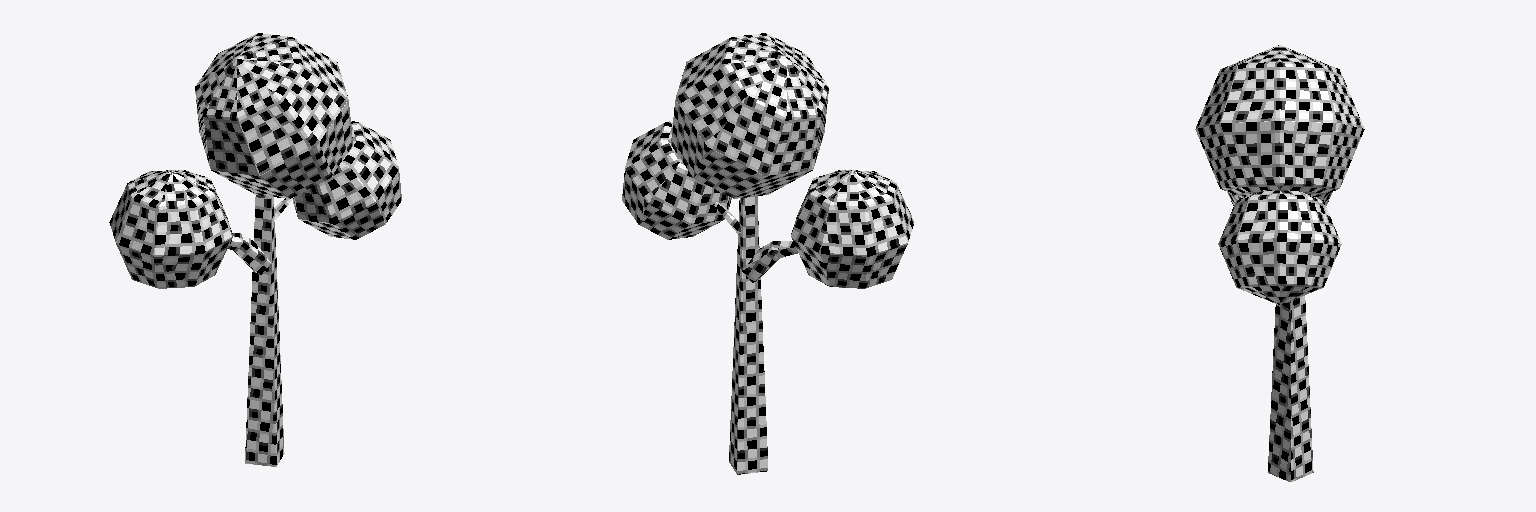
The picture shows the model from 3 angles: view 1: azimuth 30°, elevation 25°; view 2: azimuth 150°, elevation 25°; view 3: azimuth 270°, elevation 25°; orthographic projection.
Parts seen in each view (by area): view 1: Arbol_05; view 2: Arbol_05; view 3: Arbol_05.
Boxes of the visible parts, x1=… form: Arbol_05: x1=109, y1=33, x2=401, y2=466; Arbol_05: x1=622, y1=33, x2=914, y2=474; Arbol_05: x1=1195, y1=45, x2=1364, y2=481.
Bounding box in the file's own units: 30.29 × 43.34 × 15.85.
1 materials, 1 textured.